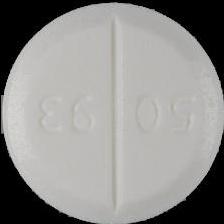68788-6414: (0, 0, 224, 224)
